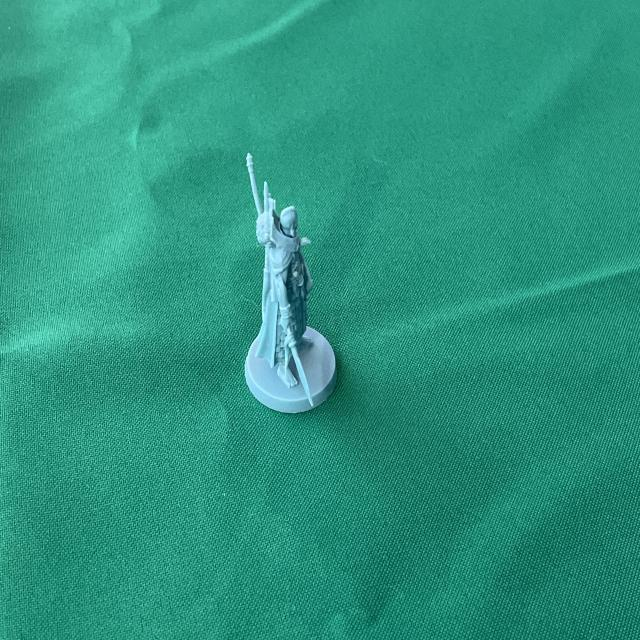isis_follower: (245, 148, 342, 416)
